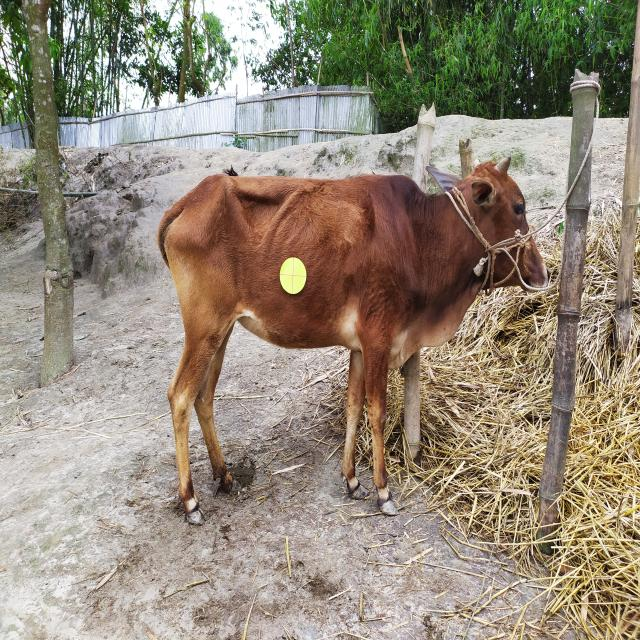badan_sapi: (166, 172, 422, 350)
sapi: (138, 137, 553, 528)
